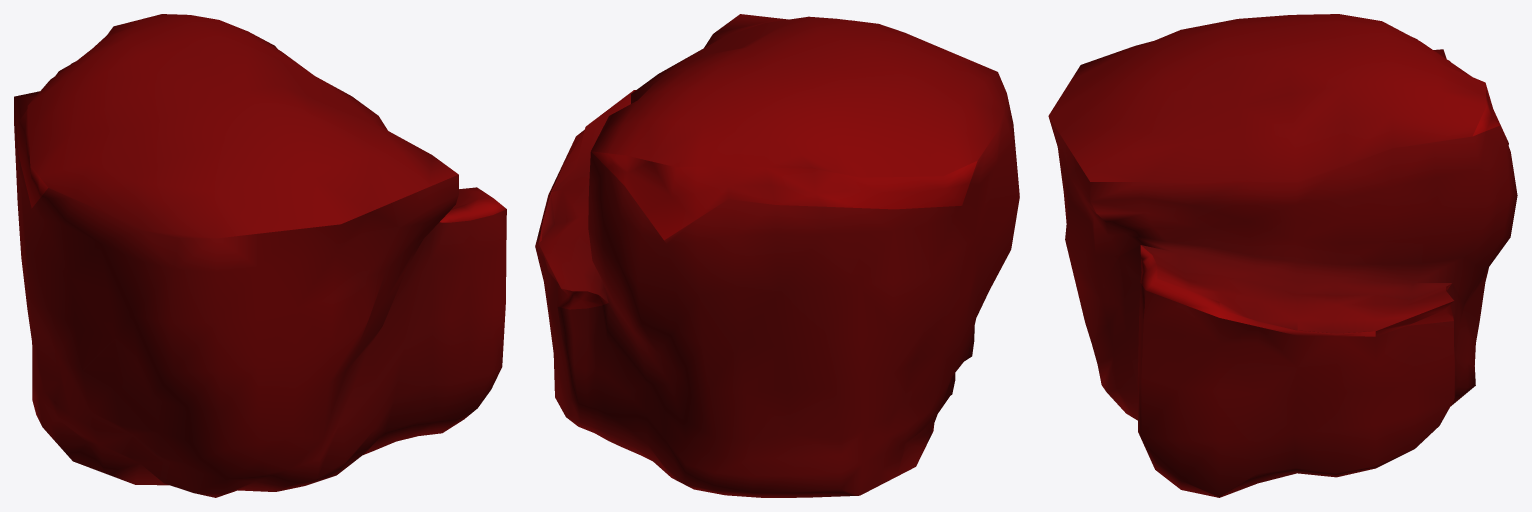
File: geology-rocks-sharprock_v7.fbx
3 views of the same model, side by side, from view 1: azimuth 30°, elevation 25°; view 2: azimuth 150°, elevation 25°; view 3: azimuth 270°, elevation 25° (orthographic). The views are drawn at different scales.
Visible parts, largest first — view 1: SharpRock_v7; view 2: SharpRock_v7; view 3: SharpRock_v7.
Boxes of the visible parts, x1,y1,x2,y2 form: SharpRock_v7: (14,14,506,497); SharpRock_v7: (535,14,1019,497); SharpRock_v7: (1048,14,1517,497).
Bounding box in the file's own units: 3.39 × 2.91 × 3.41.
